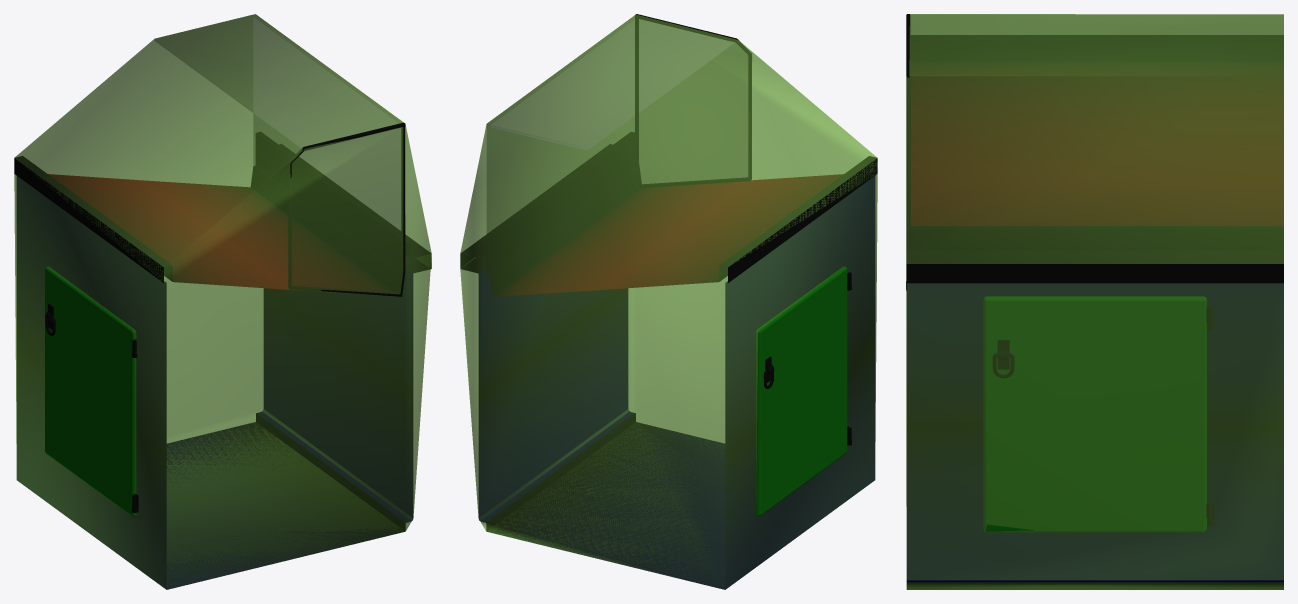
The model's file is M_md_Stall5_1m_01.fbx.
3 renders of one model, left to right at view 1: azimuth 30°, elevation 25°; view 2: azimuth 150°, elevation 25°; view 3: azimuth 270°, elevation 25°, orthographic. The views are drawn at different scales.
Parts seen in each view (by area): view 1: M_md_Stall5_1m_01_col_01, M_md_Stall5_1m_01_LOD0; view 2: M_md_Stall5_1m_01_col_01, M_md_Stall5_1m_01_LOD0; view 3: M_md_Stall5_1m_01_LOD0, M_md_Stall5_1m_01_col_01.
Part boxes in pixels (<box>): M_md_Stall5_1m_01_col_01: <box>14,14,431,589</box>; M_md_Stall5_1m_01_LOD0: <box>14,14,431,589</box>; M_md_Stall5_1m_01_col_01: <box>460,14,877,589</box>; M_md_Stall5_1m_01_LOD0: <box>460,14,877,589</box>; M_md_Stall5_1m_01_LOD0: <box>906,14,1283,589</box>; M_md_Stall5_1m_01_col_01: <box>906,14,1283,589</box>.
Size of what is drawn, in the model's own units: 105 by 150 by 100.
